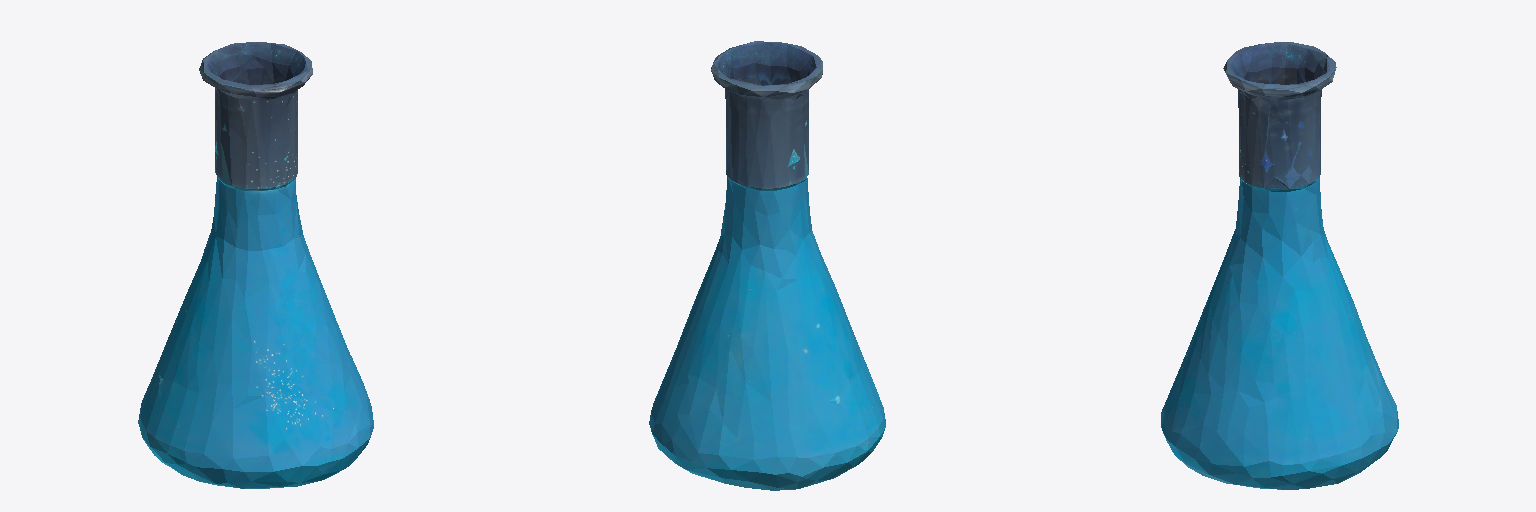
3 views of the same model, side by side, from view 1: azimuth 30°, elevation 25°; view 2: azimuth 150°, elevation 25°; view 3: azimuth 270°, elevation 25° (orthographic).
Visible parts, largest first — view 1: a_mana_potion_in_a_be_[number redacted]_texture; view 2: a_mana_potion_in_a_be_[number redacted]_texture; view 3: a_mana_potion_in_a_be_[number redacted]_texture.
Part boxes in pixels (x1,y1,x2,y2): a_mana_potion_in_a_be_[number redacted]_texture: (138,42,373,488); a_mana_potion_in_a_be_[number redacted]_texture: (649,41,885,490); a_mana_potion_in_a_be_[number redacted]_texture: (1161,42,1398,489).
Bounding box in the file's own units: 1.12 × 2.01 × 1.13.
Materials: 1 (1 with a texture image).